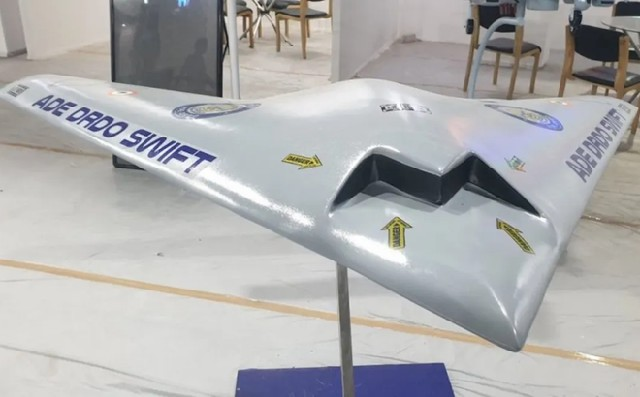maybay_khongnguoilai: (11, 72, 631, 350)
